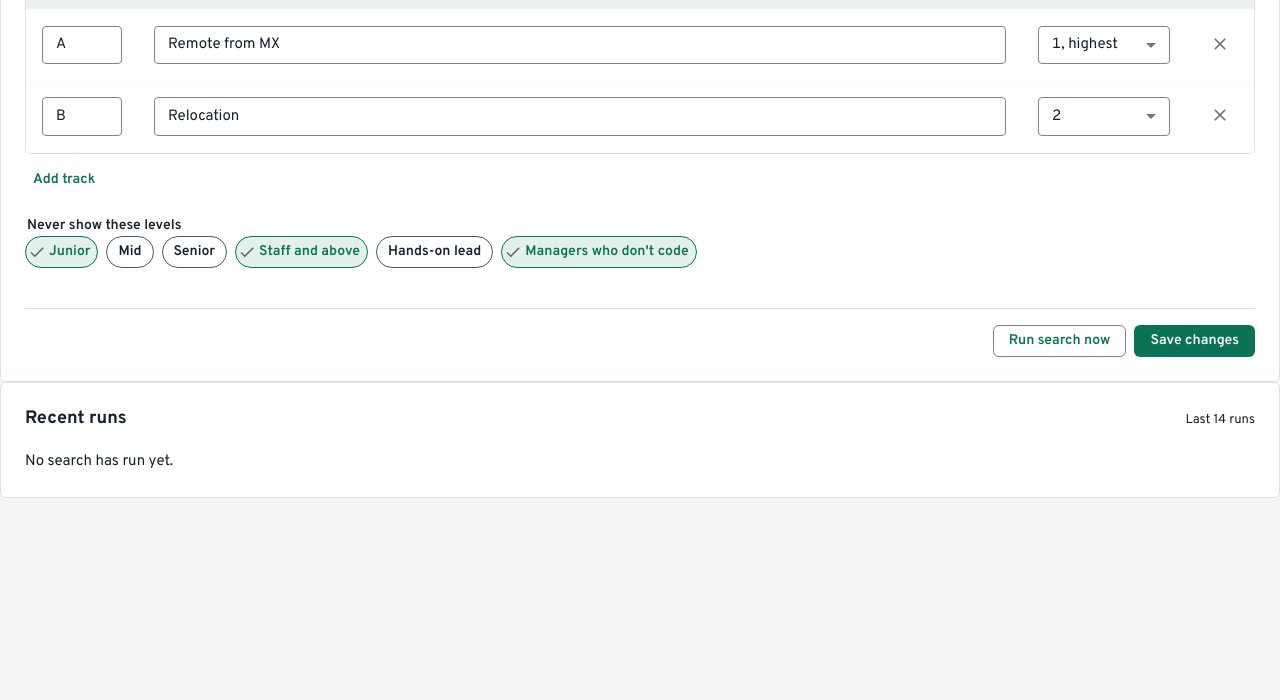
Settings, Job search › says when a search is already running
The width and height of the screenshot is (1280, 700).
(page scrolled)
Click the button "Run search now".
click(1060, 341)  # box [993,325,1126,357]
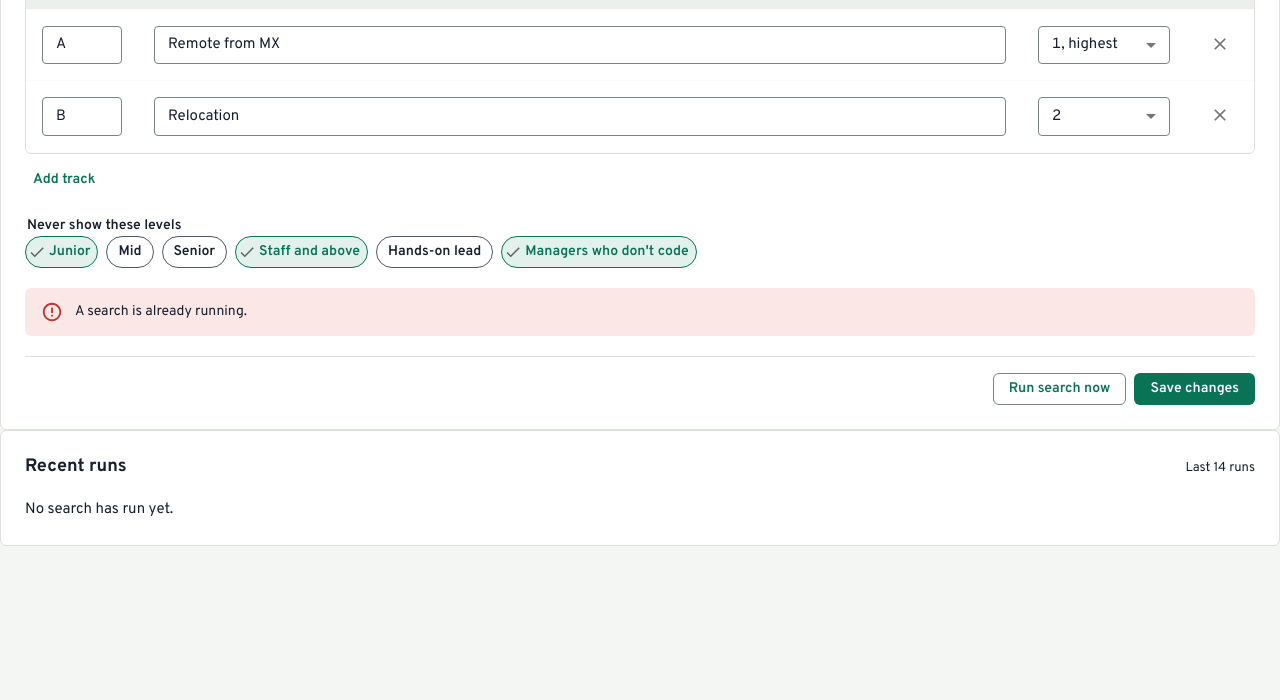
Check: the text "A search is already running." is shown, box [75,303,247,320]
